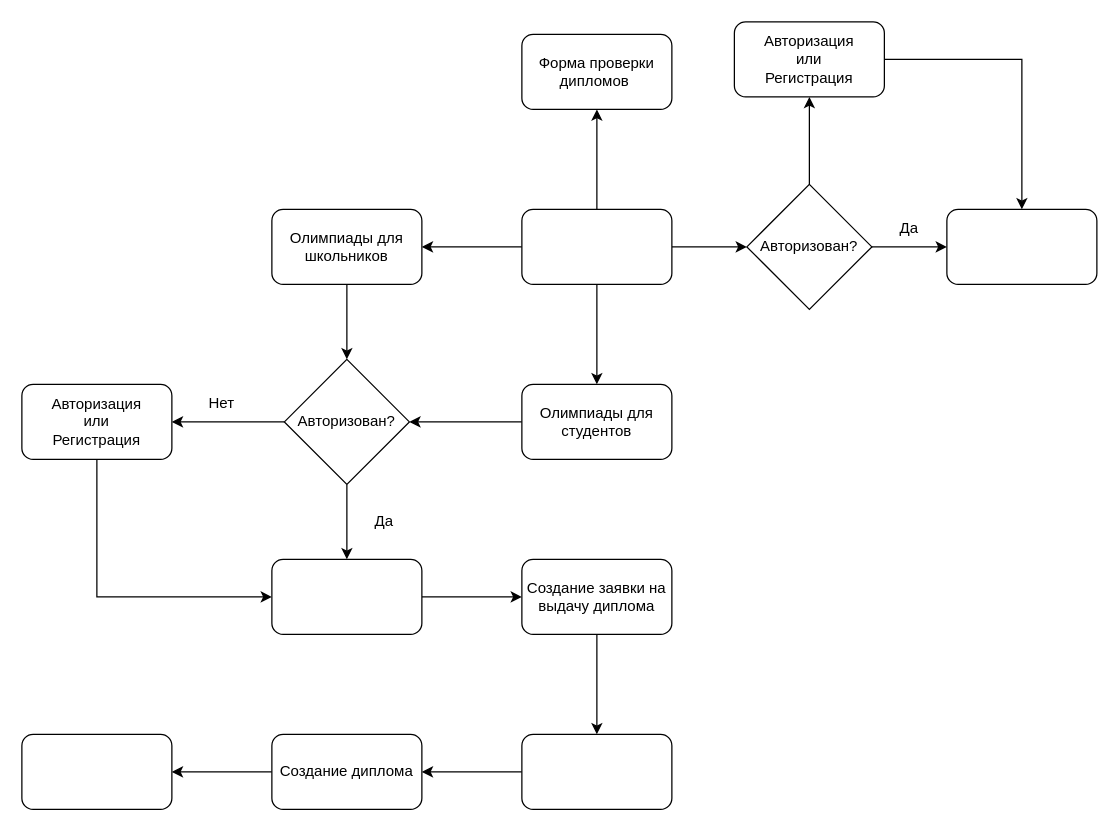
Image size: 1119x831. Some labels were removed from this diagram. The shapes that lost their labels are listed below. From the top down, each one's centre as x and y in pixels, then its label:
At (596,246): "Главная".
At (1021,246): "ЛК".
At (346,596): "Прохождение теста".
At (96,771): "Выдача диплома".
At (596,771): "Оплата".
